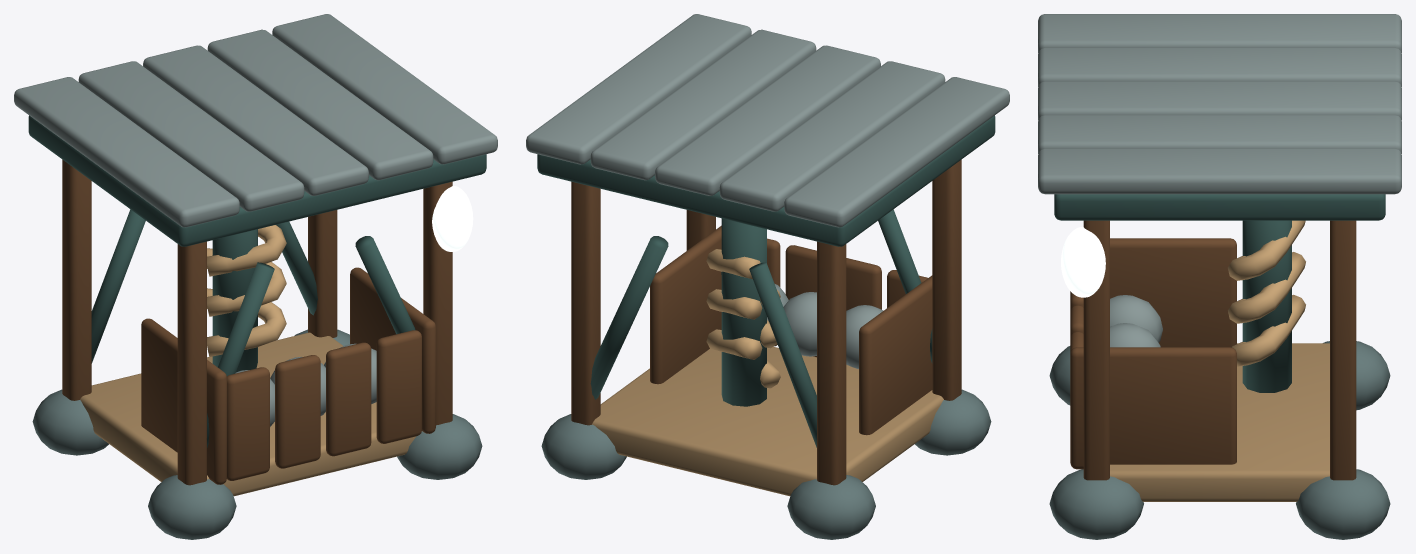
File: extractor_stone.glb
3 renders of one model, left to right at view 1: azimuth 30°, elevation 25°; view 2: azimuth 150°, elevation 25°; view 3: azimuth 270°, elevation 25°, orthographic. The views are drawn at different scales.
Visible parts, largest first — view 1: extractor_stone_part_0; view 2: extractor_stone_part_0; view 3: extractor_stone_part_0.
Part boxes in pixels (<box>): extractor_stone_part_0: <box>14,14,497,539</box>; extractor_stone_part_0: <box>526,14,1009,539</box>; extractor_stone_part_0: <box>1038,14,1401,539</box>.
Size of the model in its own units: 2.1 by 2.18 by 1.92.
